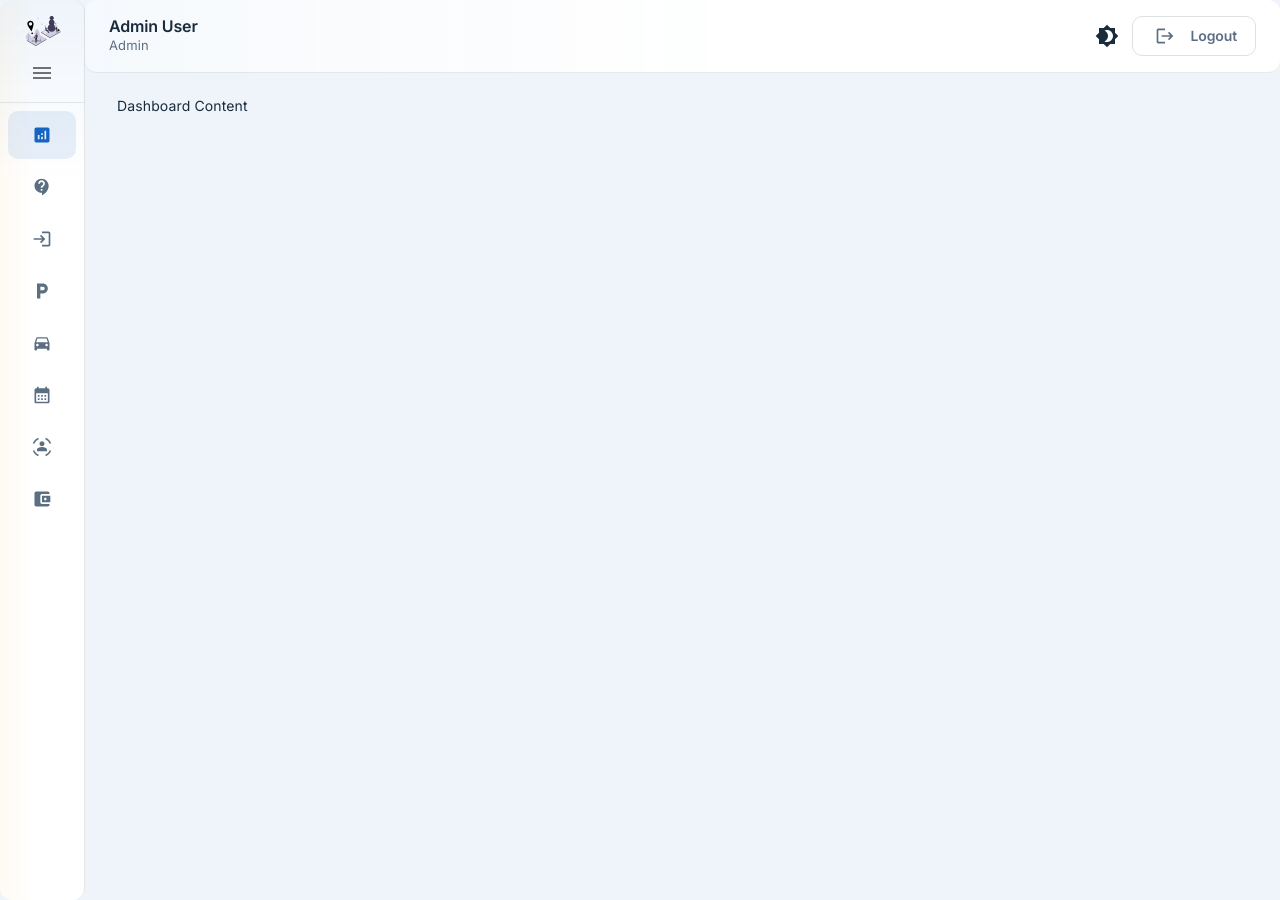
Scenario: AppLayout › collapses and expands the desktop sidebar
Click the button named "expand sidebar": (42, 73) [25, 56, 59, 90]
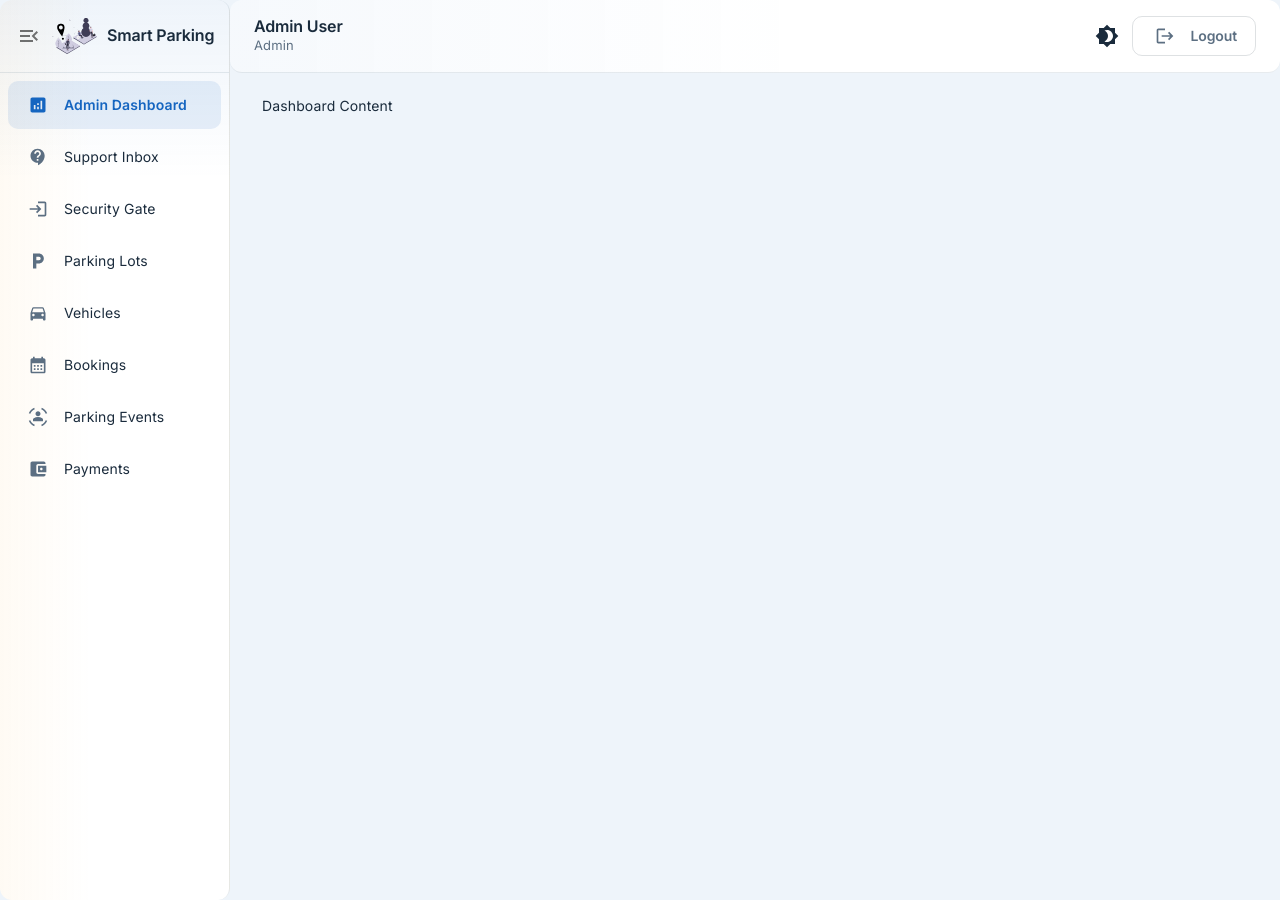
Now the button named "collapse sidebar" is shown
Now the text "Admin Dashboard" is shown, box [64, 96, 187, 114]
Click the button named "collapse sidebar": (29, 36) [12, 19, 46, 53]
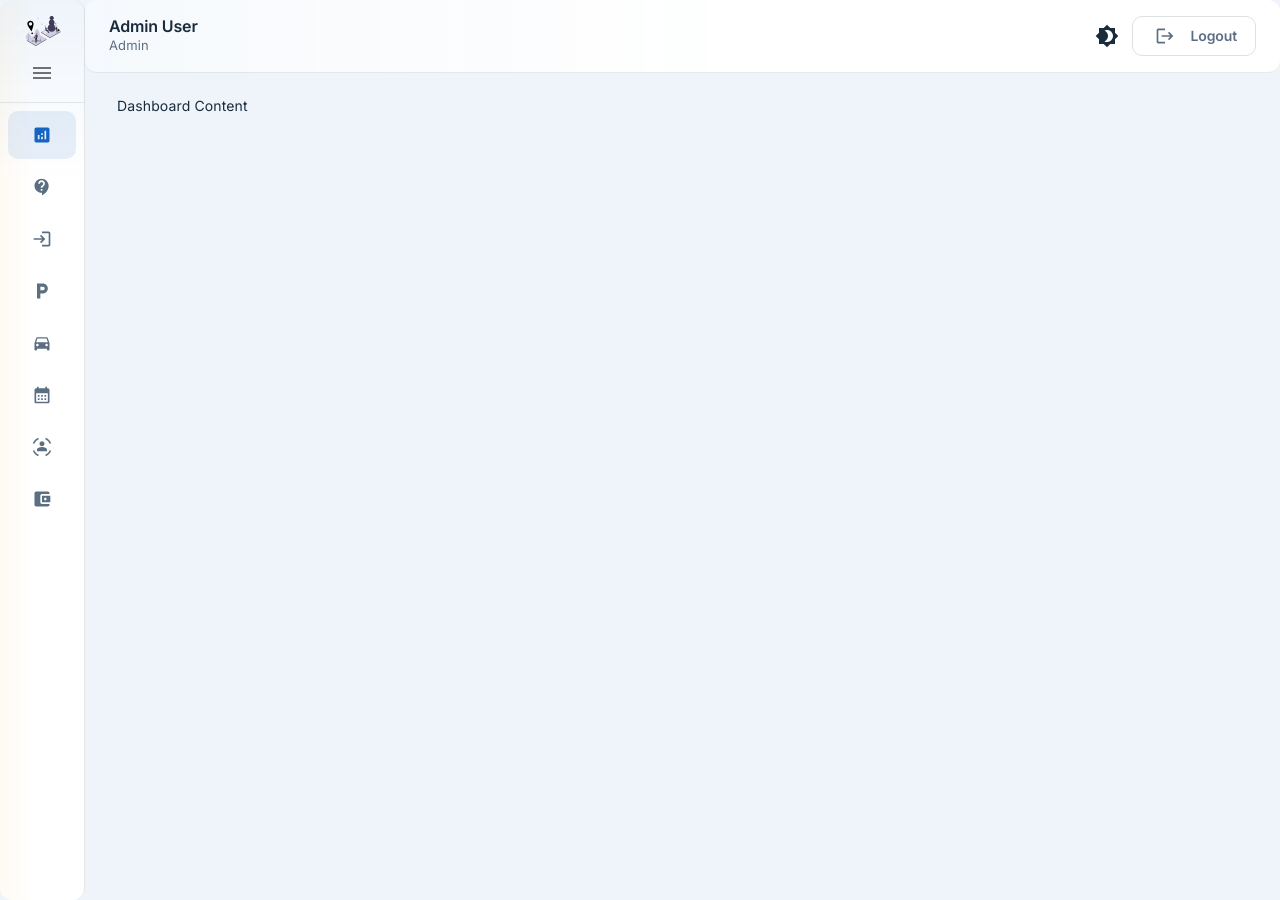
Now the button named "expand sidebar" is shown, box [25, 56, 59, 90]
Now the text "Admin Dashboard" is gone
